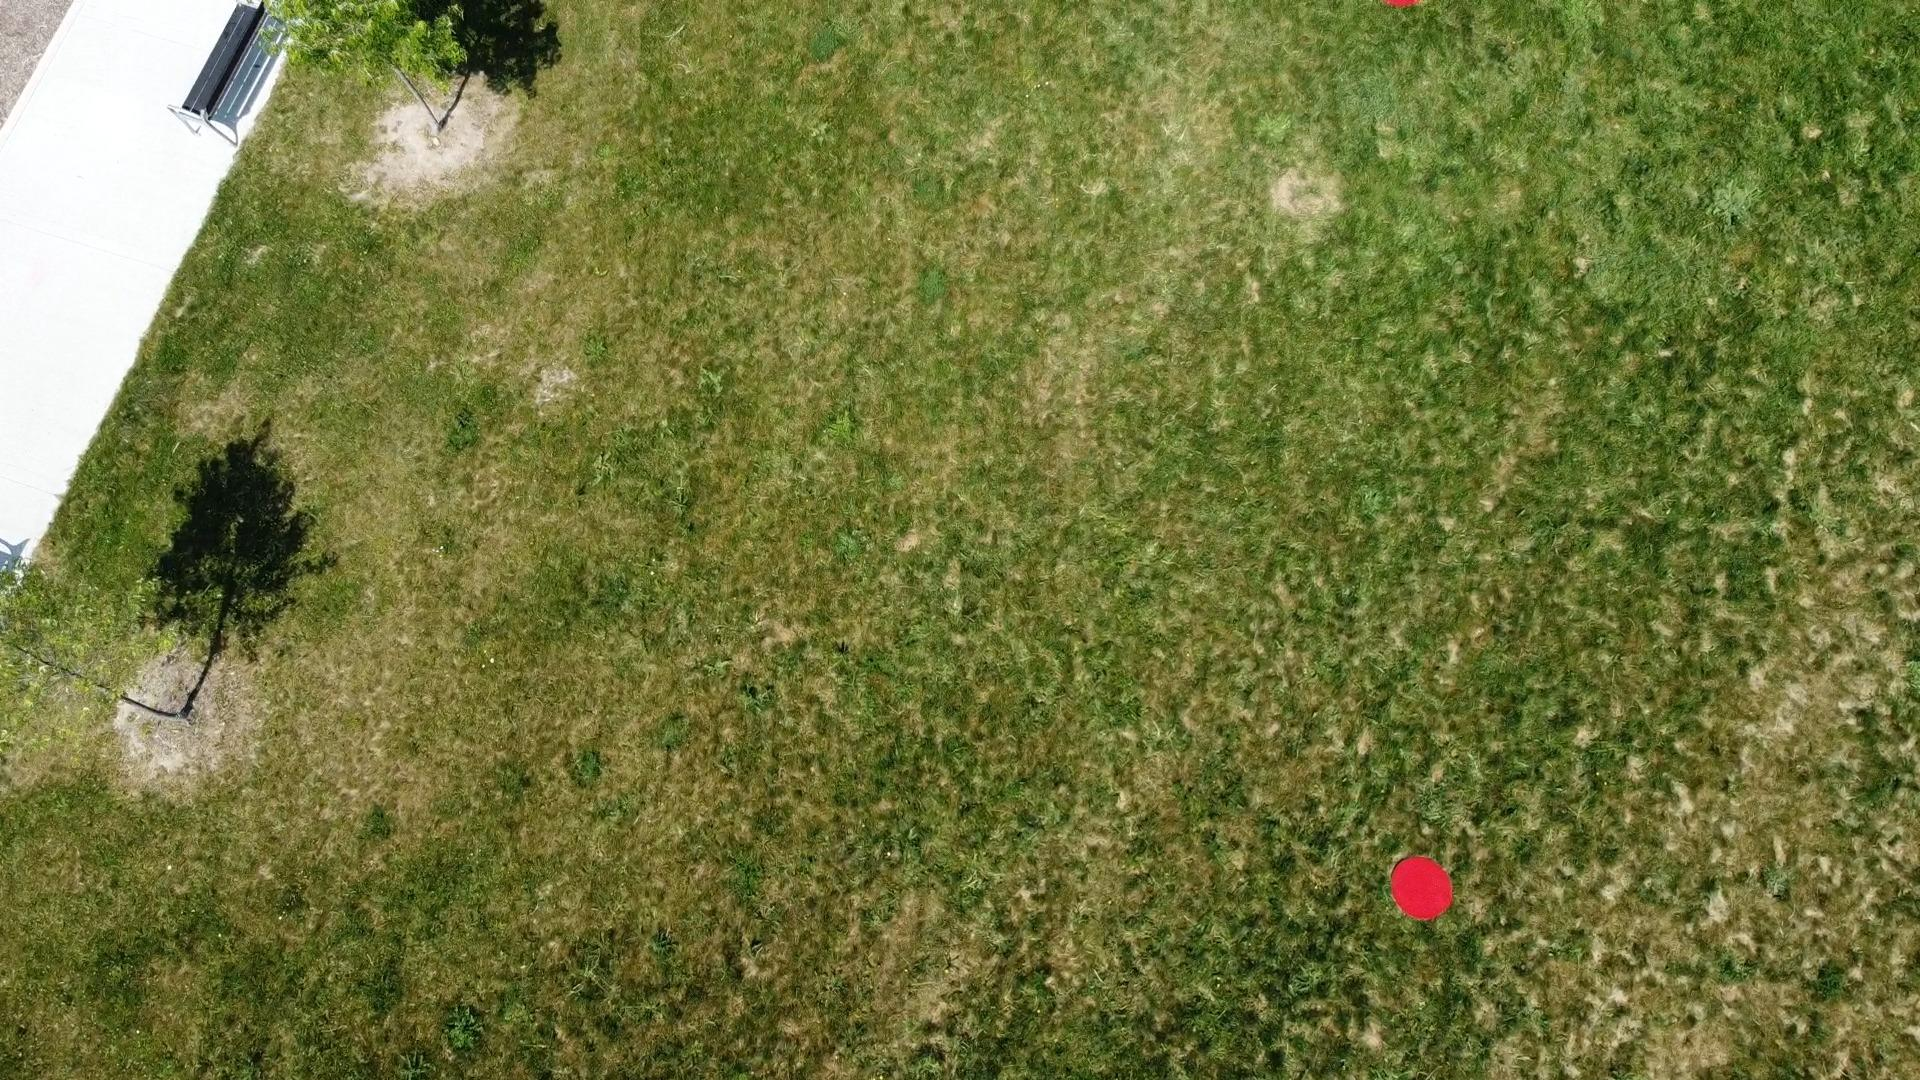Red: (1389, 855, 1456, 920)
